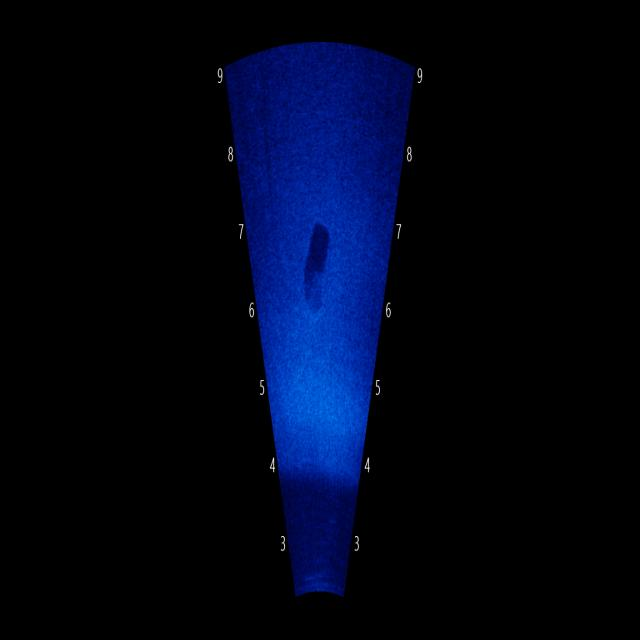square: (296, 213, 348, 334)
